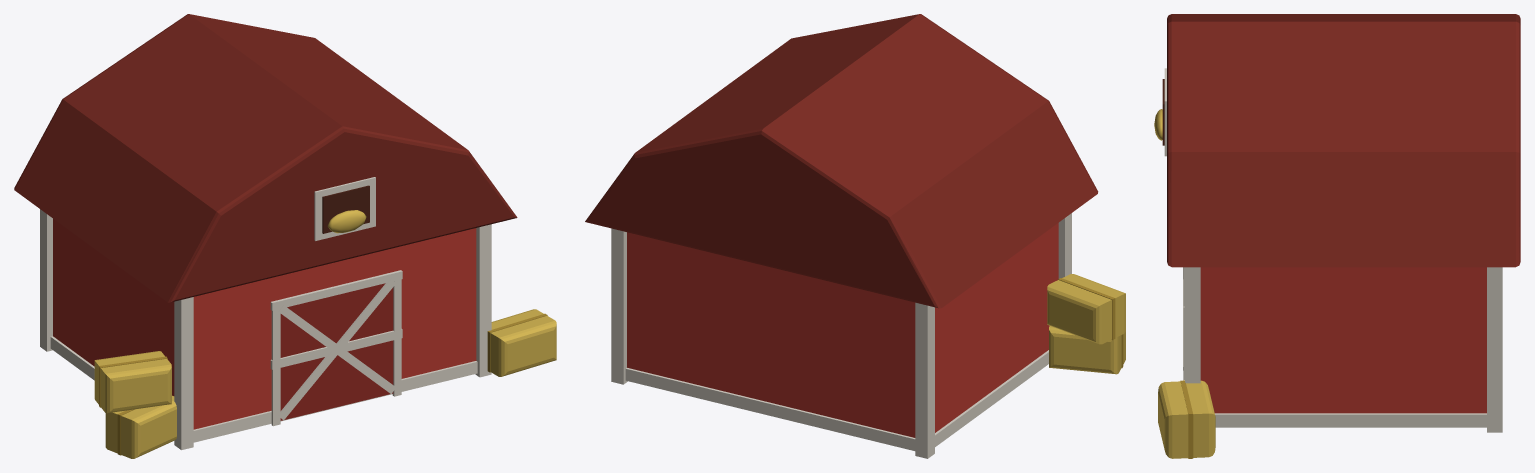
Rendered from barn.glb.
3 views of the same model, side by side, from view 1: azimuth 30°, elevation 25°; view 2: azimuth 150°, elevation 25°; view 3: azimuth 270°, elevation 25° (orthographic). The views are drawn at different scales.
Visible parts, largest first — view 1: farm_barn; view 2: farm_barn; view 3: farm_barn.
Part boxes in pixels (box(x1,y1,x2,y2)): farm_barn: box(14, 14, 556, 458); farm_barn: box(585, 14, 1125, 458); farm_barn: box(1154, 14, 1520, 458).
Bounding box in the file's own units: 9.27 × 5.96 × 6.07.
